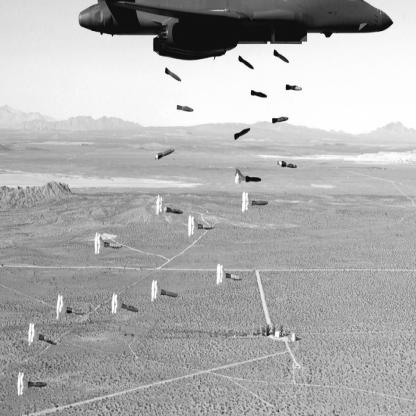B1: (79, 2, 395, 62)
